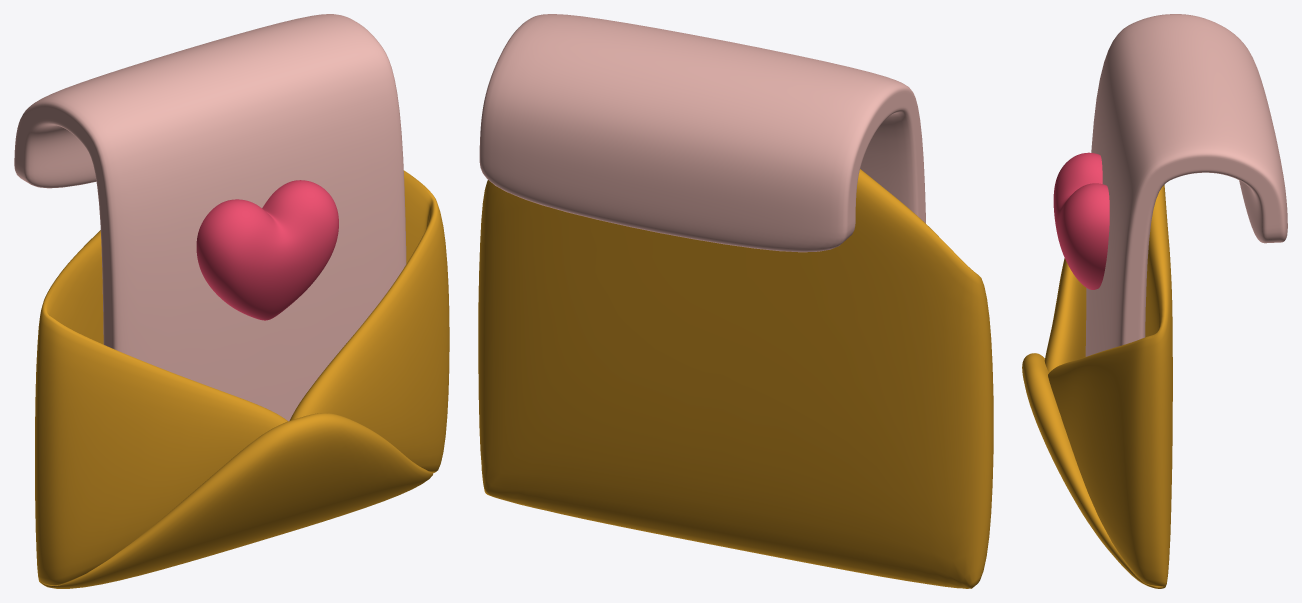
The model's file is love-letter-3d-animated-icon-300745703432.glb.
3 renders of one model, left to right at view 1: azimuth 30°, elevation 25°; view 2: azimuth 150°, elevation 25°; view 3: azimuth 270°, elevation 25°, orthographic. The views are drawn at different scales.
Parts seen in each view (by area): view 1: paper, envelope, heart; view 2: envelope, paper; view 3: paper, envelope, heart.
Part boxes in pixels (box(x1,y1,x2,y2)): paper: box(14, 14, 406, 421); envelope: box(35, 170, 449, 588); heart: box(196, 180, 338, 320); envelope: box(478, 169, 993, 588); paper: box(479, 14, 925, 252); paper: box(1085, 14, 1287, 356); envelope: box(1022, 185, 1172, 588); heart: box(1053, 152, 1109, 289).
Bounding box in the file's own units: 2.7 × 2.78 × 1.56.
